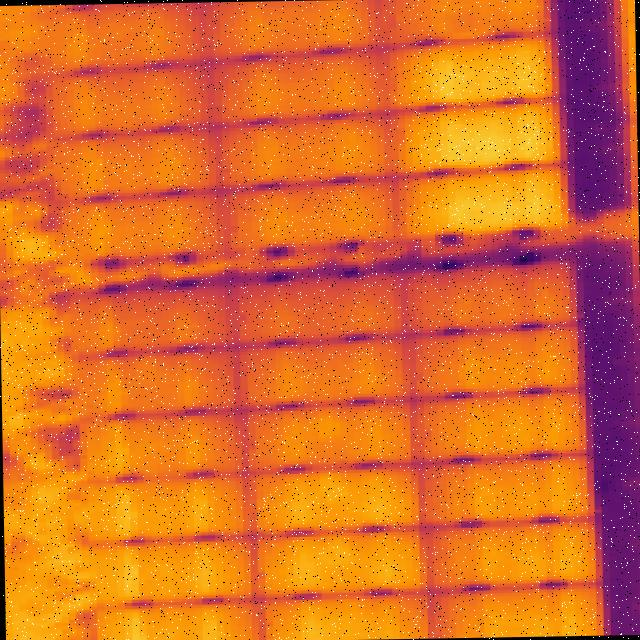Hotspot: (396, 104, 586, 170), (406, 170, 590, 234), (389, 38, 579, 97)
